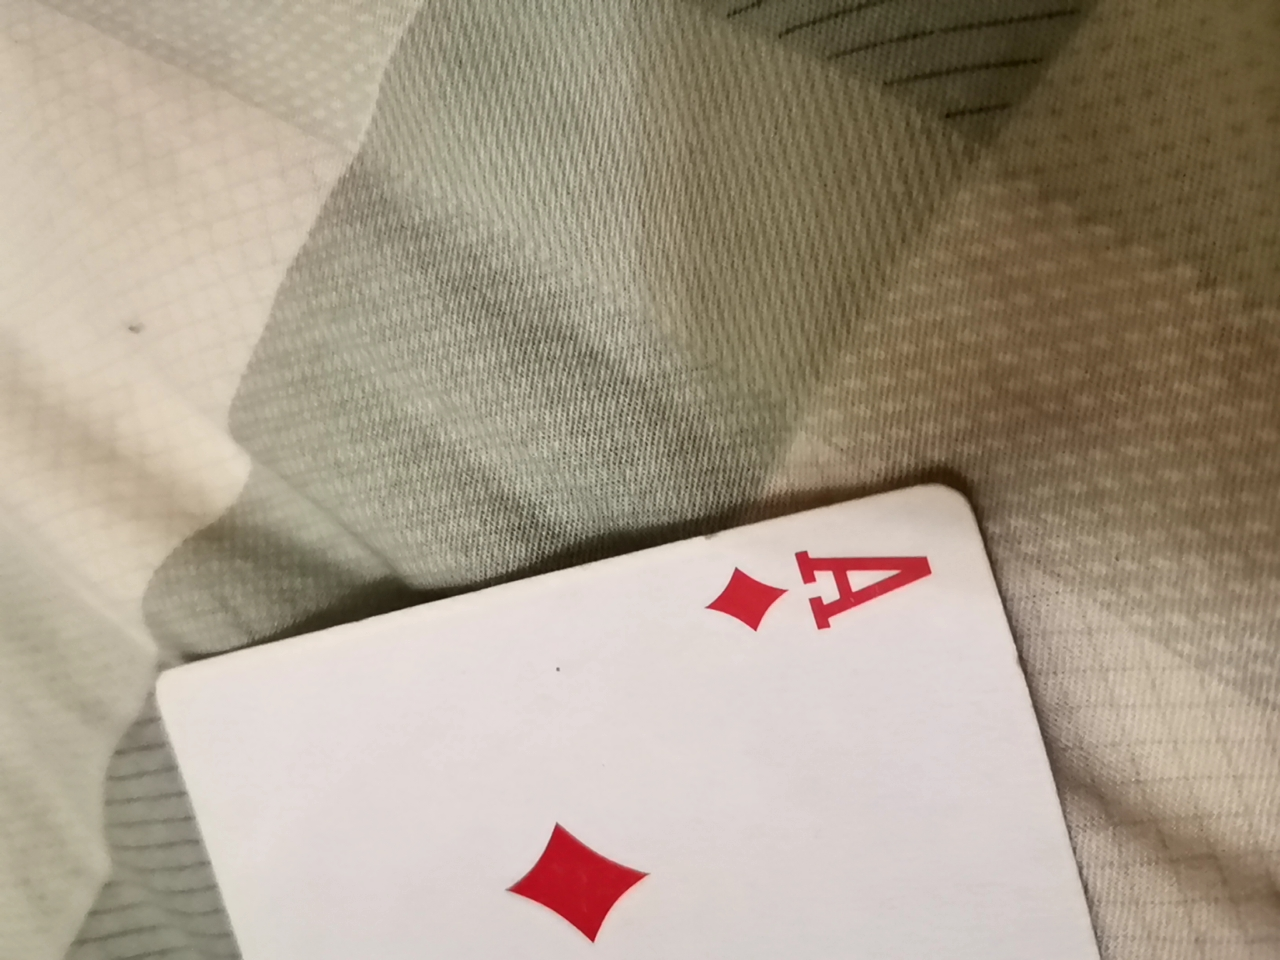fk a: (172, 503, 1167, 959)
